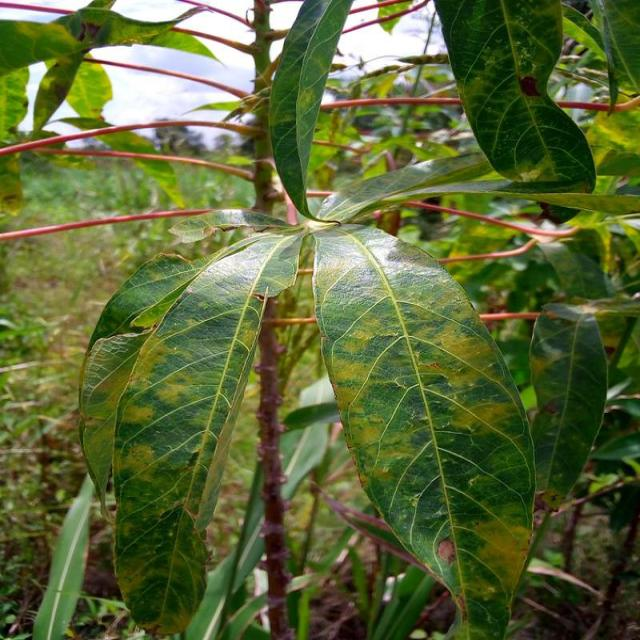cassava leaf: (310, 220, 537, 638), (110, 224, 306, 636), (433, 0, 597, 198), (266, 0, 353, 221), (526, 301, 608, 510)
